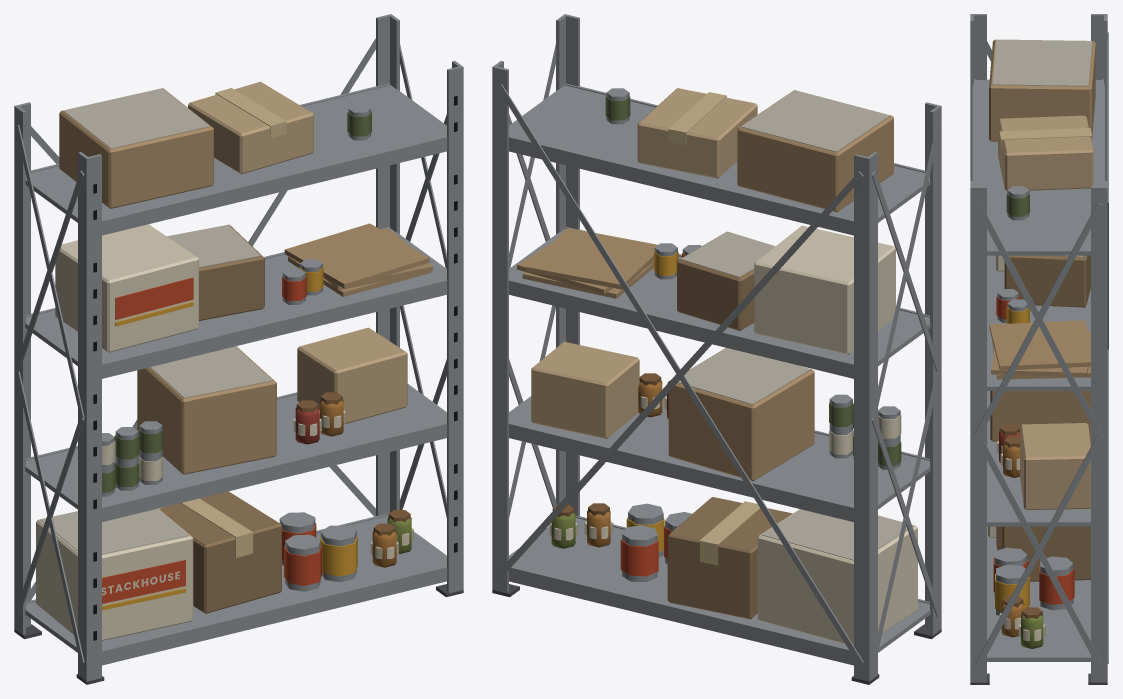
The model's file is Basement_MetalShelf.fbx.
The picture shows the model from 3 angles, left to right: view 1: azimuth 30°, elevation 25°; view 2: azimuth 150°, elevation 25°; view 3: azimuth 270°, elevation 25°; orthographic projection. The views are drawn at different scales.
Parts seen in each view (by area): view 1: Steel, Boxes, BoxesBranded, BoxesLight, Dust, BoxesDark, TinMetal, BrandBand, Tape, LabelGreen, LabelRed, LabelMustard (+6 smaller); view 2: Steel, Boxes, BoxesBranded, BoxesLight, Dust, BoxesDark, TinMetal, Tape, LabelGreen, LabelRed, Jars0, LabelCream (+2 smaller); view 3: Steel, Boxes, BoxesLight, BoxesDark, Dust, TinMetal, LabelRed, LabelMustard, Tape, Jars0, JarLids, JarLabels (+3 smaller).
Part boxes in pixels (left/top/right/bottom): Steel: left=14, top=14, right=463, bottom=681; Boxes: left=59, top=88, right=432, bottom=474; BoxesBranded: left=36, top=224, right=198, bottom=640; BoxesLight: left=188, top=81, right=407, bottom=424; Dust: left=40, top=88, right=272, bottom=554; BoxesDark: left=158, top=224, right=281, bottom=613; TinMetal: left=102, top=104, right=371, bottom=591; BrandBand: left=102, top=277, right=193, bottom=603; Tape: left=181, top=88, right=286, bottom=557; LabelGreen: left=102, top=112, right=371, bottom=492; LabelRed: left=282, top=277, right=321, bottom=585; LabelMustard: left=299, top=267, right=357, bottom=576; Steel: left=492, top=14, right=941, bottom=681; Boxes: left=517, top=90, right=893, bottom=481; BoxesBranded: left=754, top=225, right=917, bottom=645; BoxesLight: left=531, top=88, right=757, bottom=438; Dust: left=678, top=90, right=913, bottom=560; BoxesDark: left=667, top=232, right=792, bottom=619; TinMetal: left=606, top=88, right=900, bottom=582; Tape: left=668, top=92, right=760, bottom=565; LabelGreen: left=605, top=96, right=901, bottom=466; LabelRed: left=620, top=253, right=685, bottom=576; Jars0: left=587, top=381, right=662, bottom=547; LabelCream: left=829, top=414, right=901, bottom=454; Steel: left=970, top=14, right=1108, bottom=682; Boxes: left=989, top=39, right=1095, bottom=444; BoxesLight: left=998, top=115, right=1093, bottom=510; BoxesDark: left=996, top=255, right=1090, bottom=581; Dust: left=992, top=39, right=1092, bottom=257; TinMetal: left=994, top=186, right=1073, bottom=615; LabelRed: left=993, top=296, right=1074, bottom=604; LabelMustard: left=995, top=307, right=1029, bottom=610; Tape: left=999, top=128, right=1091, bottom=150; Jars0: left=1001, top=443, right=1024, bottom=637; JarLids: left=999, top=424, right=1042, bottom=618; JarLabels: left=996, top=441, right=1045, bottom=640.
Bounding box in the file's own units: 604 × 800 × 203.
